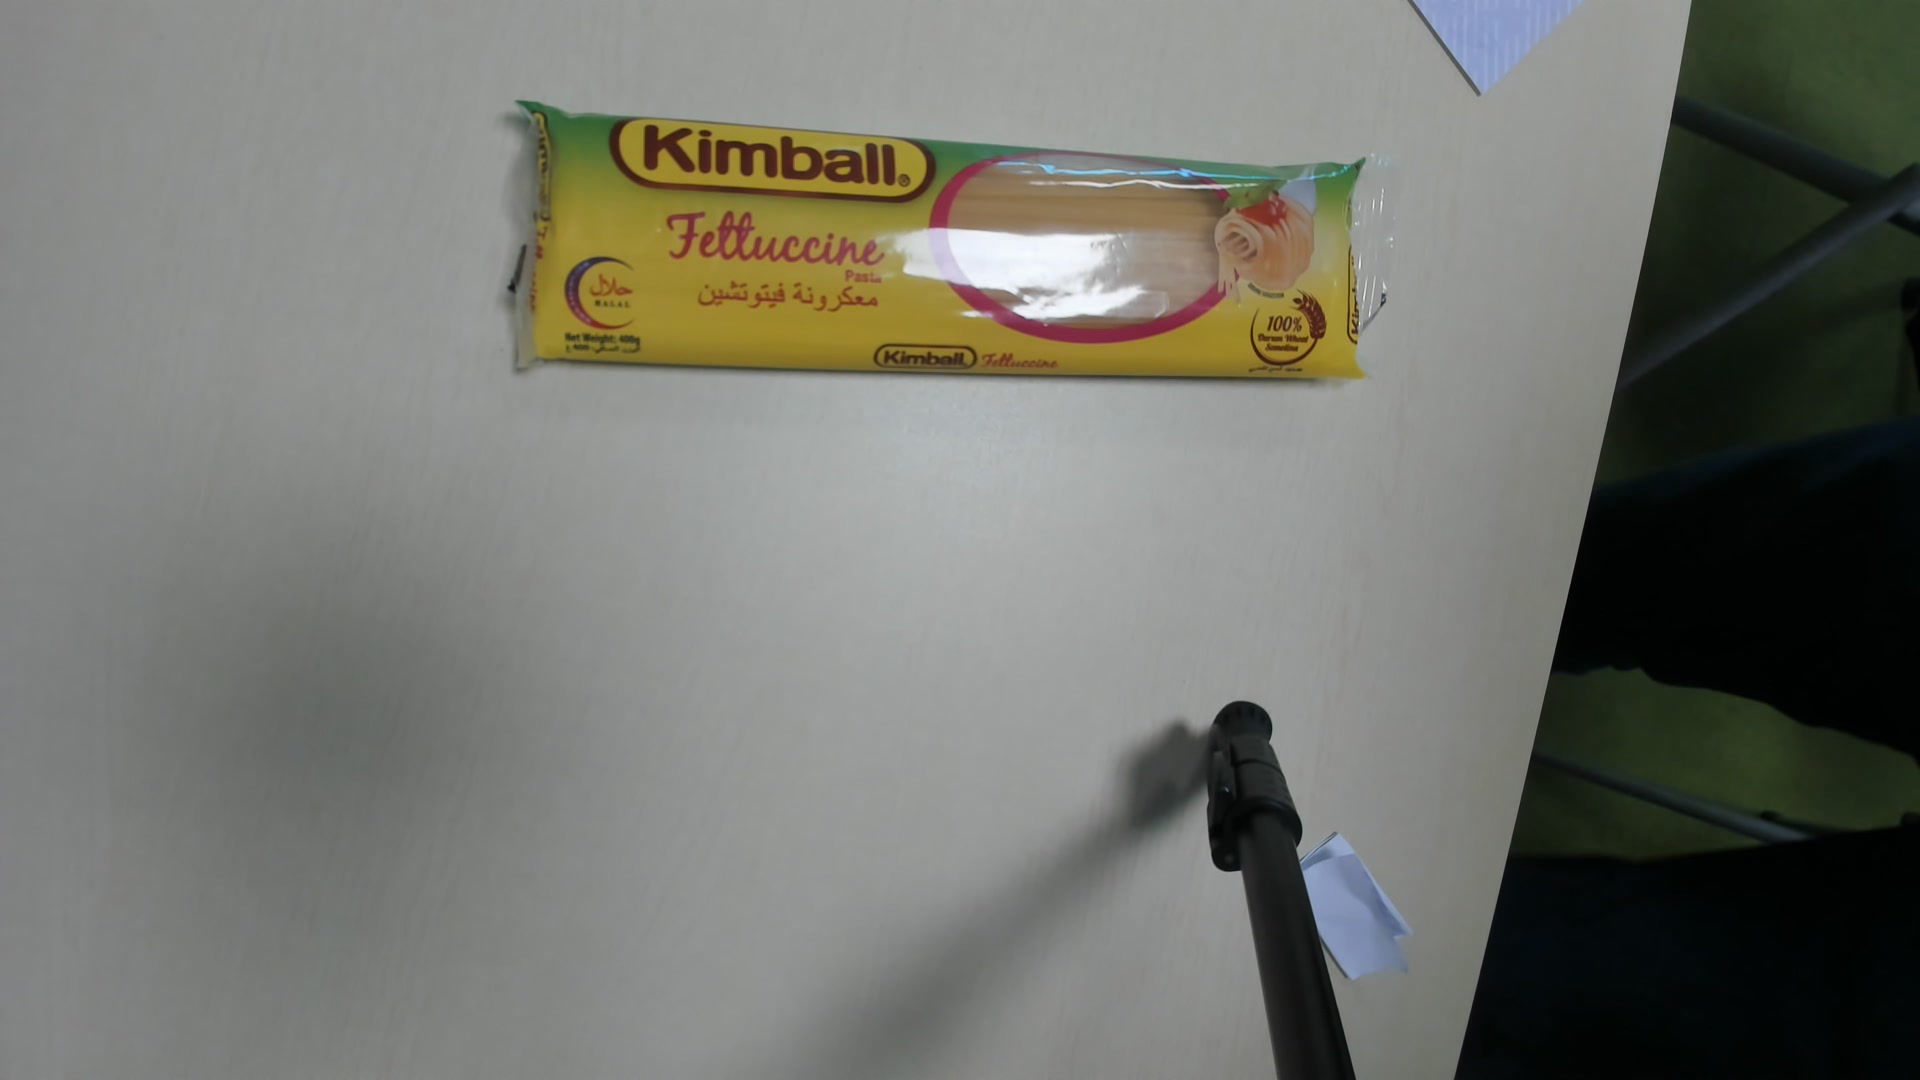Pasta_400-499g_Halal_NonHealthy: (513, 98, 1389, 388)
